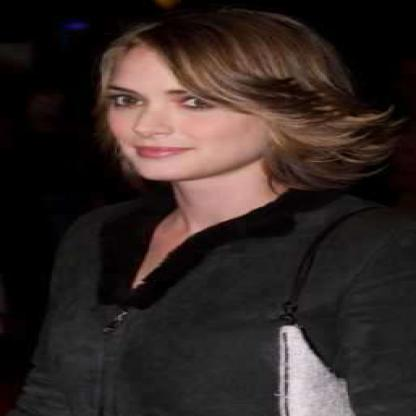face: (94, 23, 288, 188)
